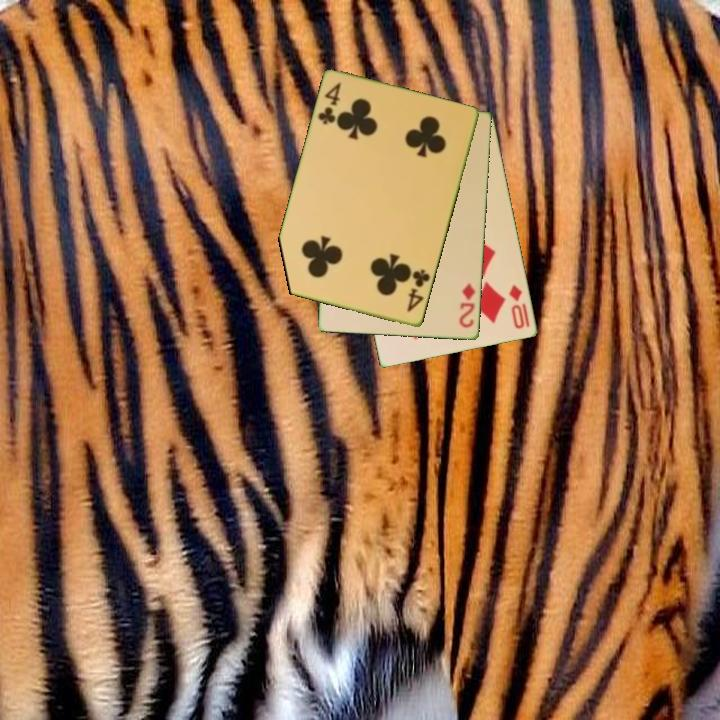10d: (506, 281, 528, 332)
2d: (456, 280, 478, 331)
4c: (404, 266, 433, 316), (315, 79, 344, 128)
